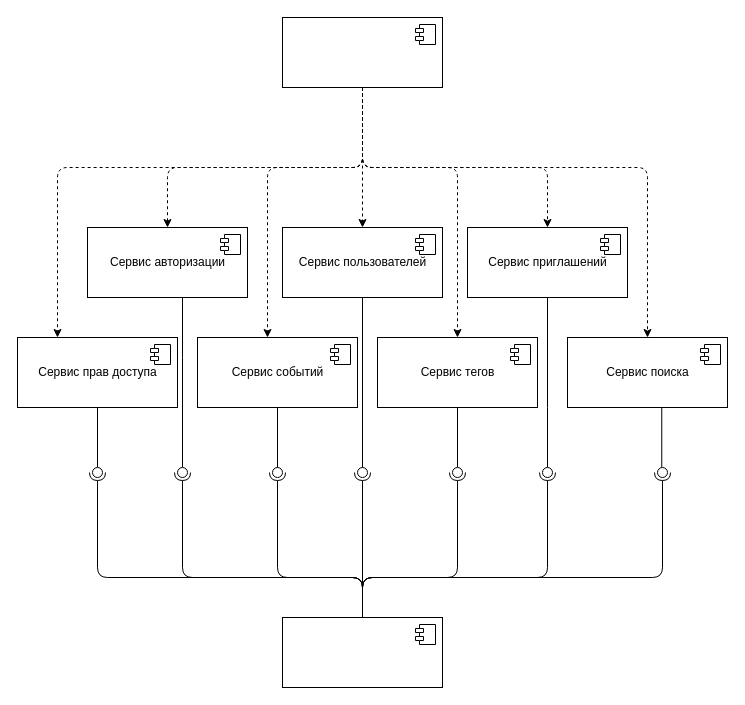
Some shapes in this 745 by 705 pixel diagram are drawn without their labels. Each missing label, with the centre of its shape:
Компонент доступа к данным: (362,652)
Компонент транспортного слоя: (362,52)
